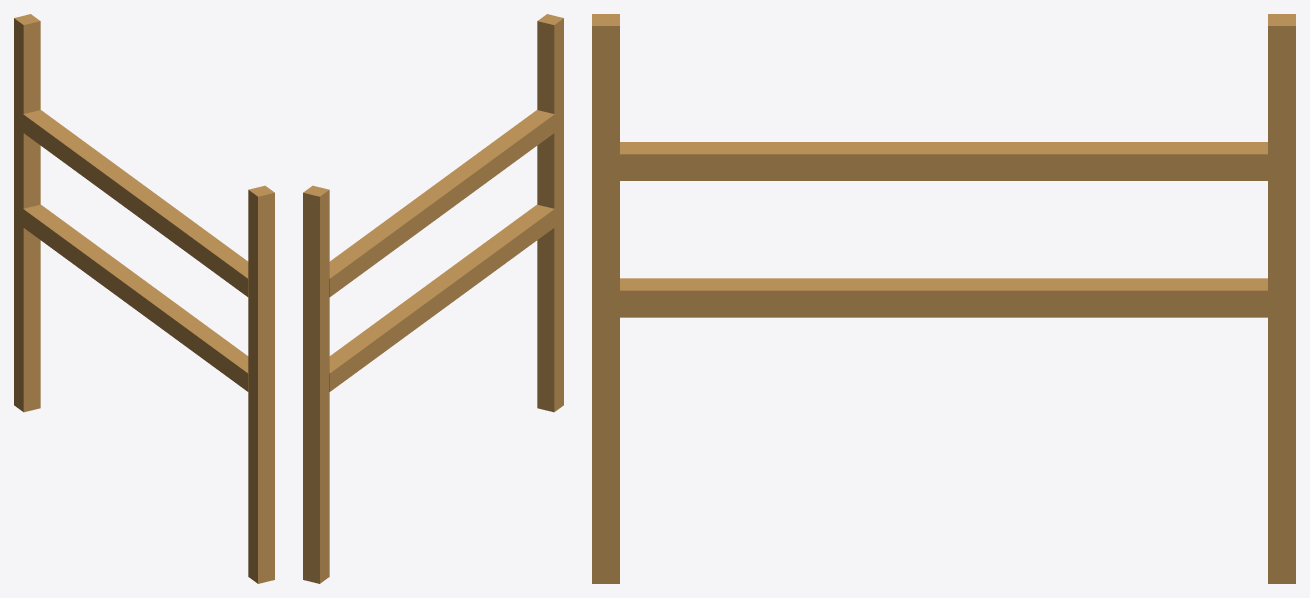
Rendered from fence.obj.
The picture shows the model from 3 angles, left to right: view 1: azimuth 30°, elevation 25°; view 2: azimuth 150°, elevation 25°; view 3: azimuth 270°, elevation 25°; orthographic projection. The views are drawn at different scales.
Visible parts, largest first — view 1: Cube, Cube.001, Cube.003, Cube.002; view 2: Cube.001, Cube, Cube.003, Cube.002; view 3: Cube.003, Cube.002, Cube.001, Cube.
Boxes of the visible parts, box(x1,y1,x2,y2) form: Cube: box(248, 185, 274, 583); Cube.001: box(14, 14, 40, 412); Cube.003: box(23, 204, 248, 392); Cube.002: box(23, 110, 248, 297); Cube.001: box(303, 185, 329, 583); Cube: box(537, 14, 563, 412); Cube.003: box(329, 204, 555, 391); Cube.002: box(329, 110, 555, 297); Cube.003: box(618, 278, 1268, 317); Cube.002: box(618, 142, 1268, 180); Cube.001: box(1268, 14, 1295, 583); Cube: box(592, 14, 619, 583).
Size of the model in its own units: 0.0874 by 1.82 by 2.08.
